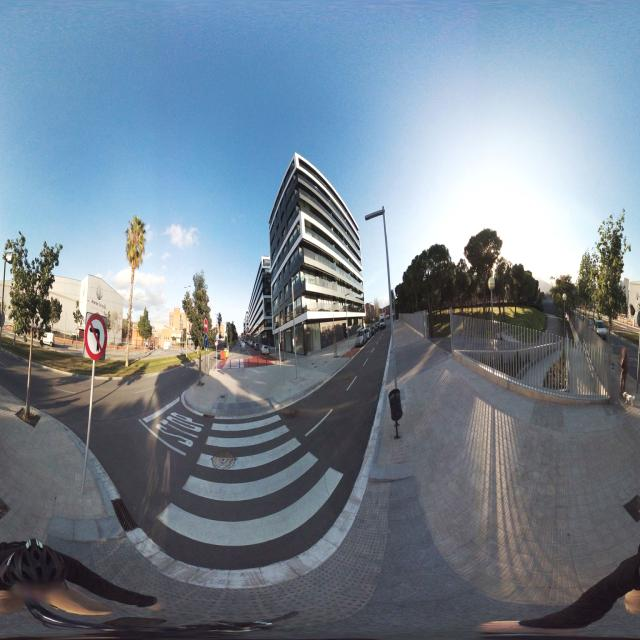car: (594, 318, 609, 340)
